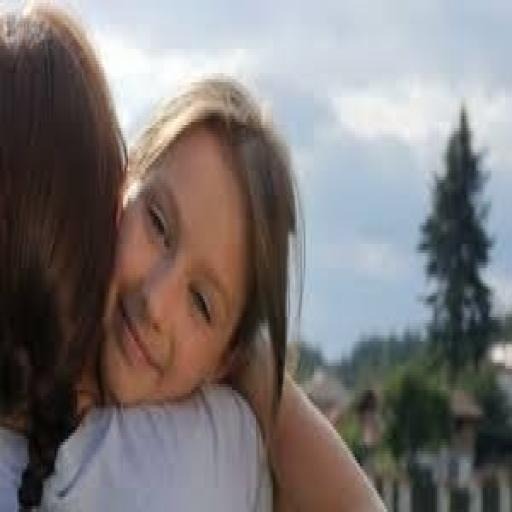hugging: (0, 0, 391, 509)
